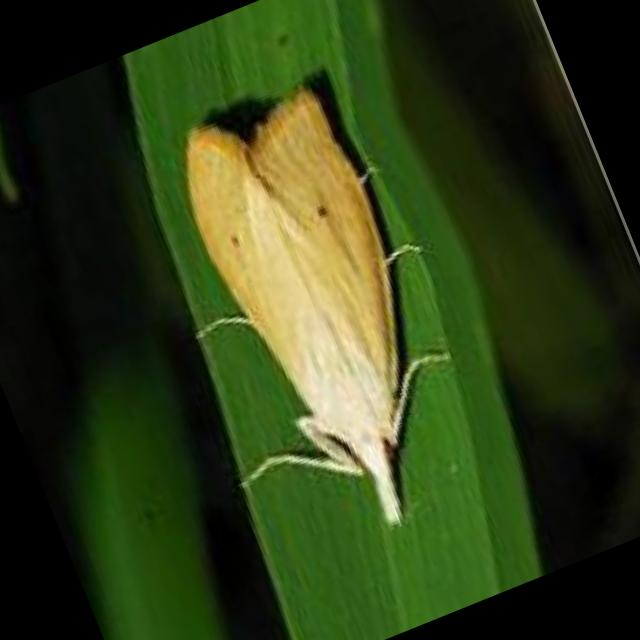stem-borer: (106, 61, 512, 572)
